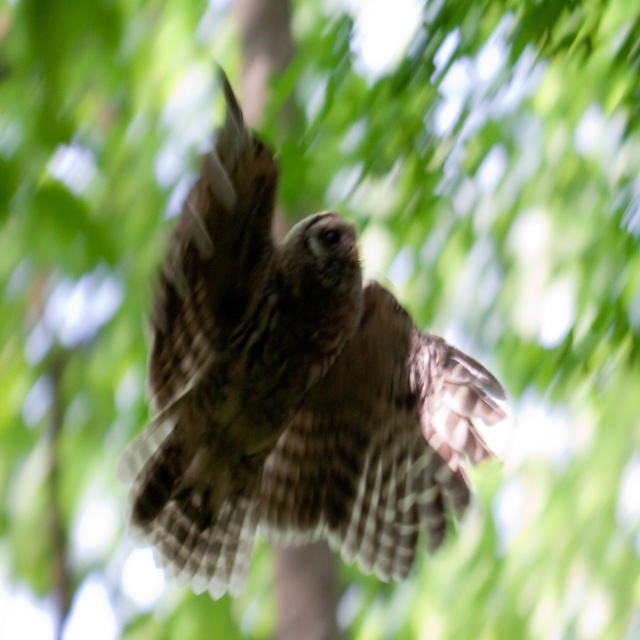Owl: (116, 67, 510, 603)
